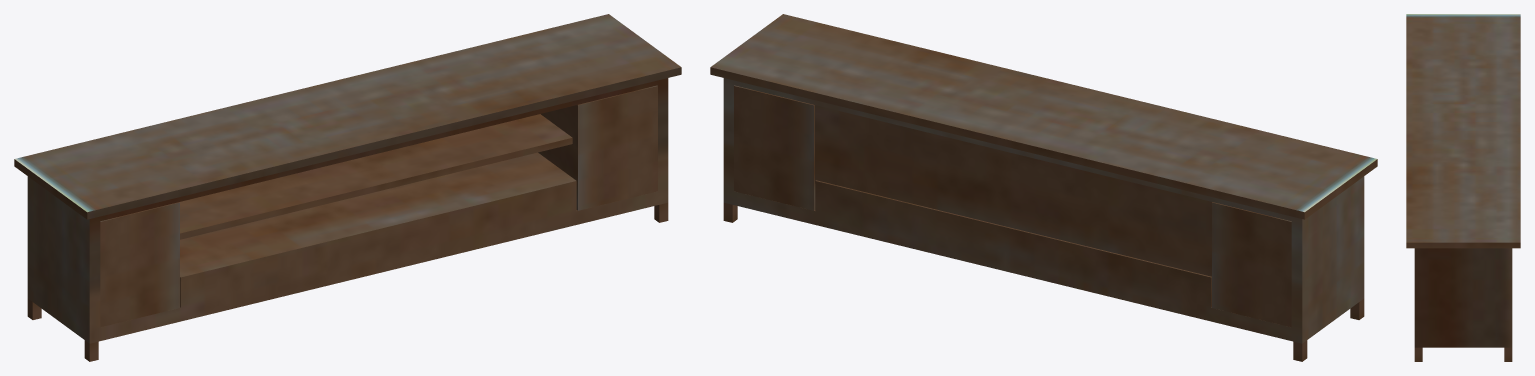
Rendered from TV_Table (1).fbx.
3 renders of one model, left to right at view 1: azimuth 30°, elevation 25°; view 2: azimuth 150°, elevation 25°; view 3: azimuth 270°, elevation 25°, orthographic. The views are drawn at different scales.
Visible parts, largest first — view 1: Tv_Table; view 2: Tv_Table; view 3: Tv_Table.
Part boxes in pixels (bbox=[...]): Tv_Table: bbox=[14, 14, 681, 361]; Tv_Table: bbox=[710, 14, 1377, 361]; Tv_Table: bbox=[1406, 14, 1520, 361].
Size of the model in its own units: 229 by 57.32 by 48.6.
